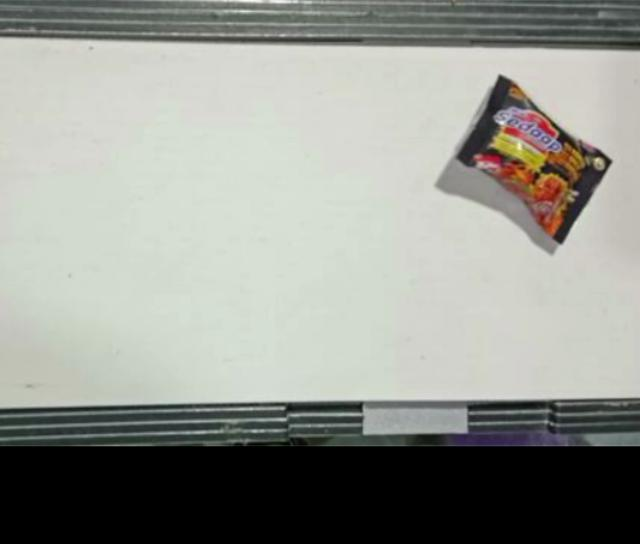Plastik: (457, 74, 615, 246)
